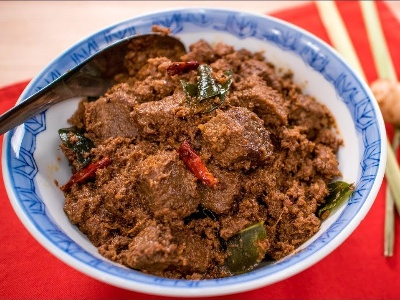rendang: (80, 69, 314, 251)
